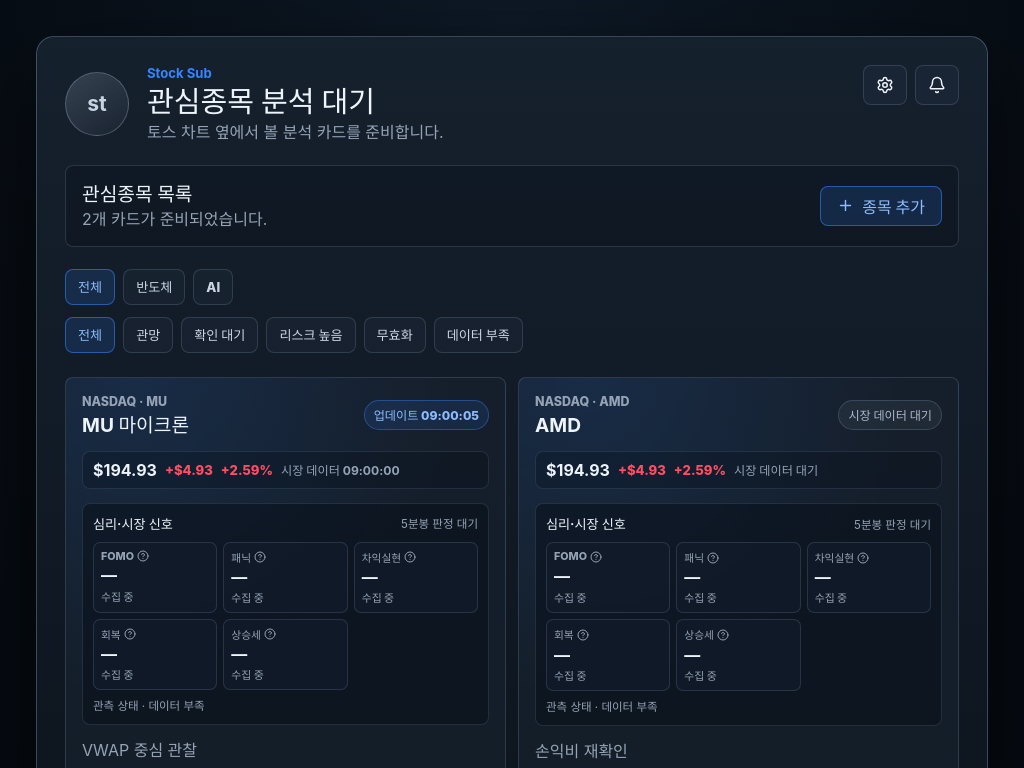
Test: AppShell › filters the dashboard by quant status and lightweight card group
Expected: the heading "MU 마이크론" is shown, [82,413,189,437]
Expected: the heading "AMD" is shown, [535,413,581,437]
Click the button "리스크 높음". click: x=311, y=335
box: [266,317,356,353]
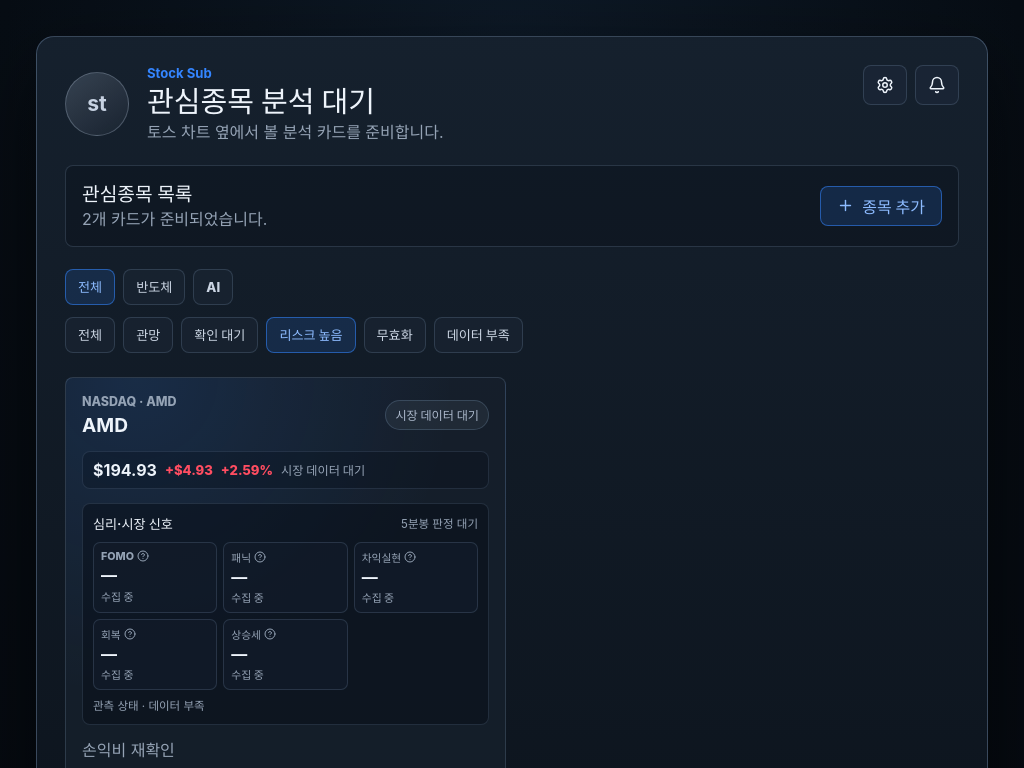
Expected: the heading "AMD" is shown, [82,413,128,437]
Expected: the heading "MU 마이크론" is gone
Click the button "반도체". click: x=154, y=287
box: [123,269,185,305]
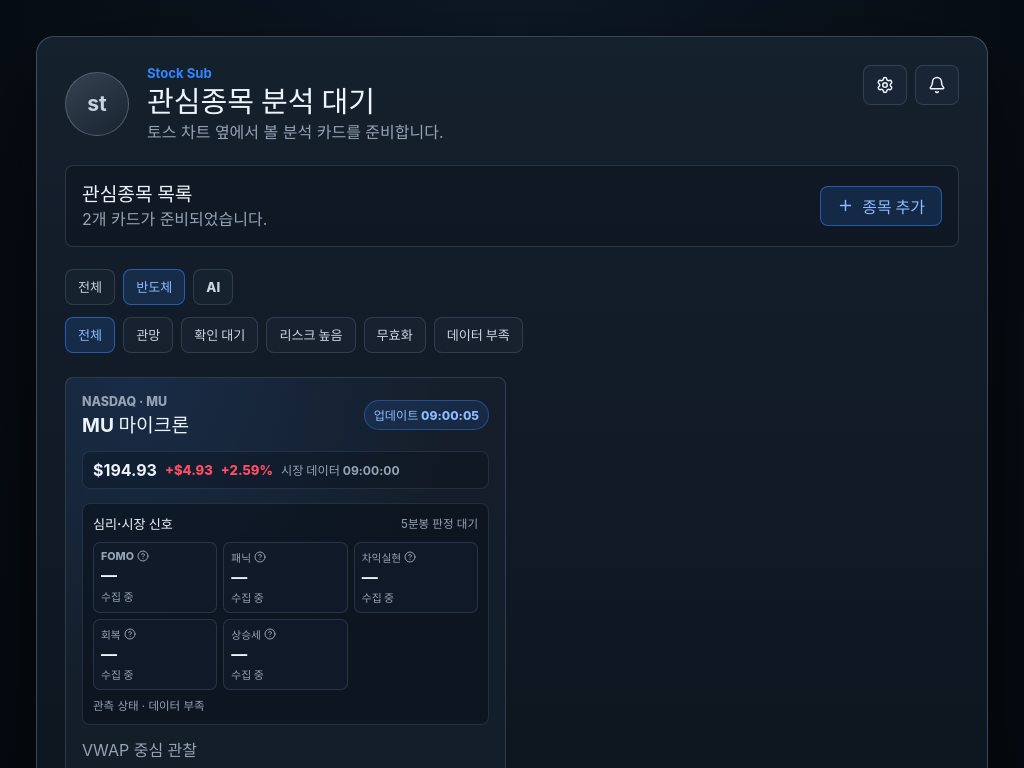
Expected: the heading "MU 마이크론" is shown, [82,413,189,437]
Expected: the text "AMD" is gone
